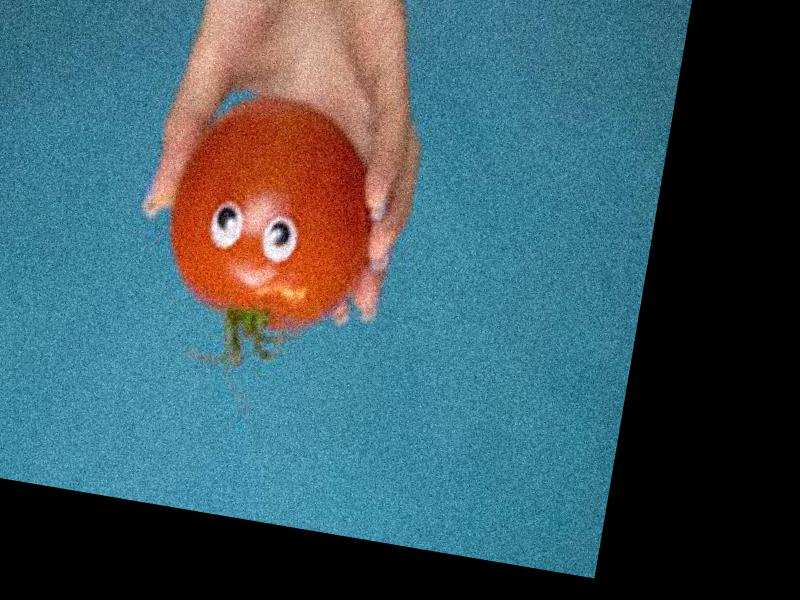Tomato: (153, 82, 392, 345)
